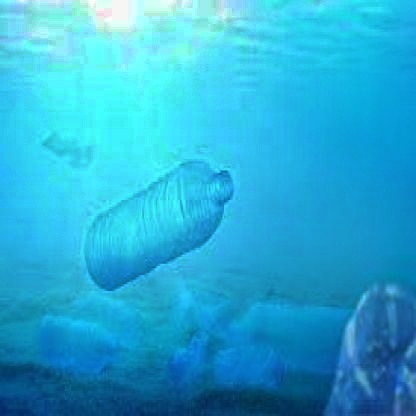pbottle: (77, 148, 241, 291), (322, 273, 416, 416), (222, 298, 354, 375), (162, 334, 289, 389), (33, 314, 121, 384), (87, 275, 154, 350), (165, 282, 239, 336)
